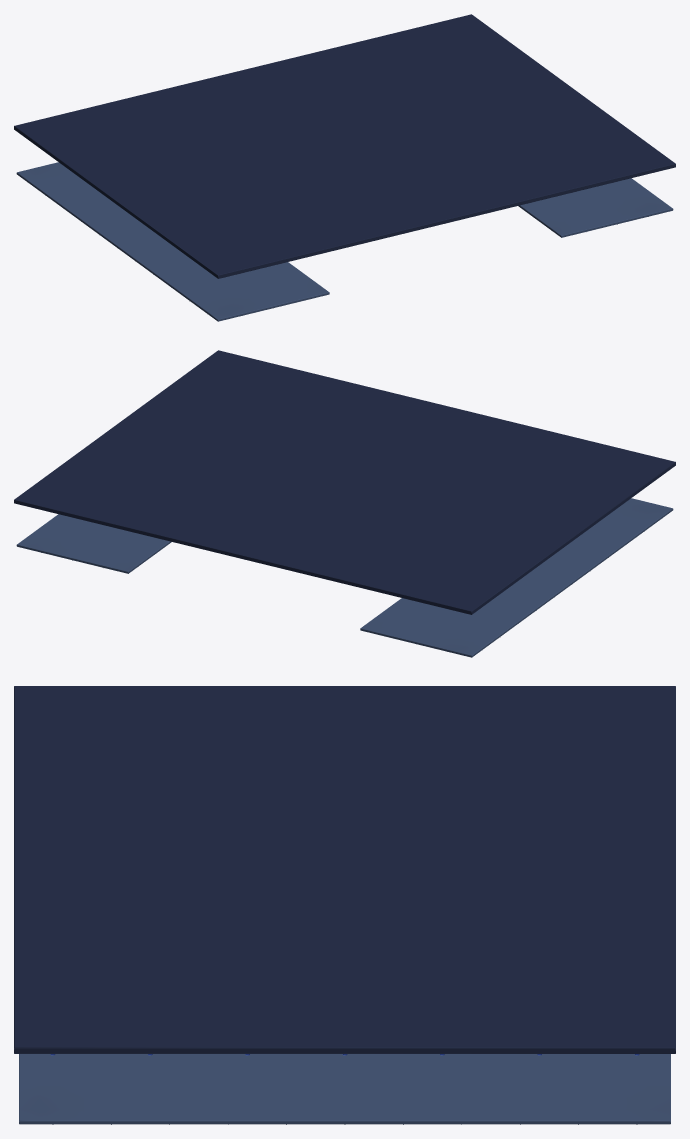
The model's file is ceiling.glb.
3 views of the same model, one above another, from view 1: azimuth 30°, elevation 25°; view 2: azimuth 150°, elevation 25°; view 3: azimuth 270°, elevation 25° (orthographic). The views are drawn at different scales.
Parts seen in each view (by area): view 1: ceiling; view 2: ceiling; view 3: ceiling.
Boxes of the visible parts, bbox=[...] form: ceiling: bbox=[14, 14, 675, 321]; ceiling: bbox=[14, 350, 675, 657]; ceiling: bbox=[14, 686, 675, 1124].
Bounding box in the file's own units: 44 × 4.55 × 34.
